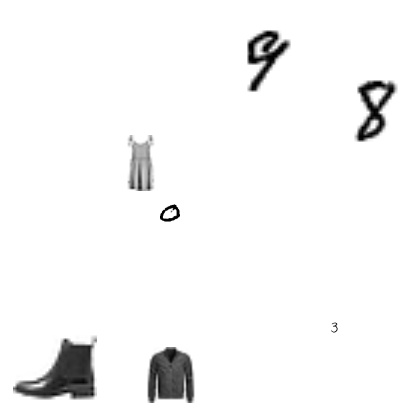0: (156, 199, 184, 227)
3: (328, 320, 342, 334)
8: (331, 66, 415, 150)
9: (221, 13, 305, 97)
Ankle_boot: (13, 324, 97, 408)
Coat: (142, 347, 198, 403)
Dress: (112, 135, 168, 191)
